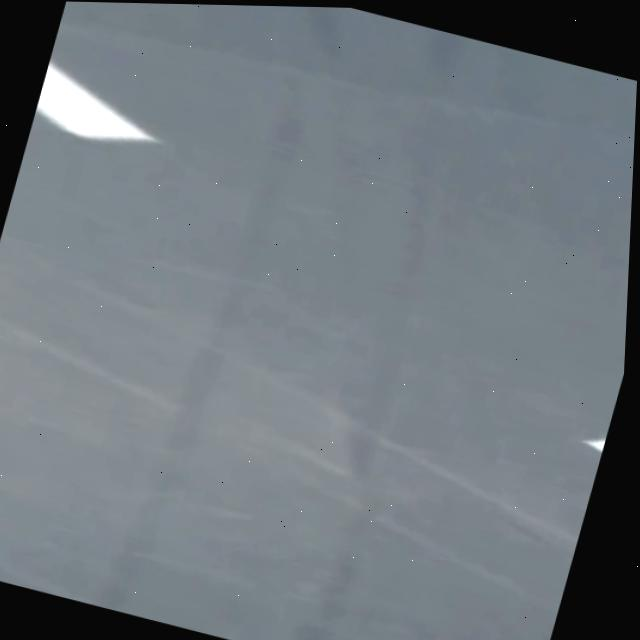center: (36, 59, 160, 140), (582, 437, 606, 450)
